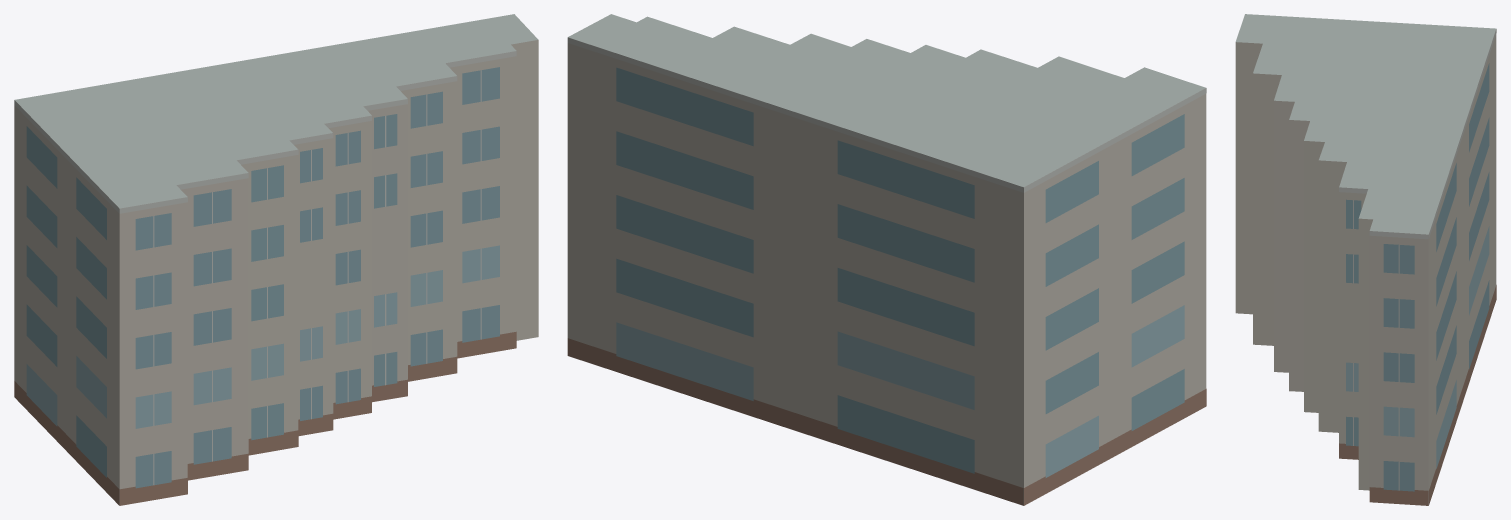
File: survey-upis-32676036.glb
3 views of the same model, side by side, from view 1: azimuth 30°, elevation 25°; view 2: azimuth 150°, elevation 25°; view 3: azimuth 270°, elevation 25° (orthographic). The views are drawn at different scales.
Parts seen in each view (by area): view 1: survey-upis-32676036.tmp; view 2: survey-upis-32676036.tmp; view 3: survey-upis-32676036.tmp.
Part boxes in pixels (x1=…): survey-upis-32676036.tmp: x1=14, y1=14, x2=538, y2=505; survey-upis-32676036.tmp: x1=567, y1=14, x2=1206, y2=505; survey-upis-32676036.tmp: x1=1235, y1=14, x2=1496, y2=505.
Bounding box in the file's own units: 24.26 × 13.9 × 12.12.
